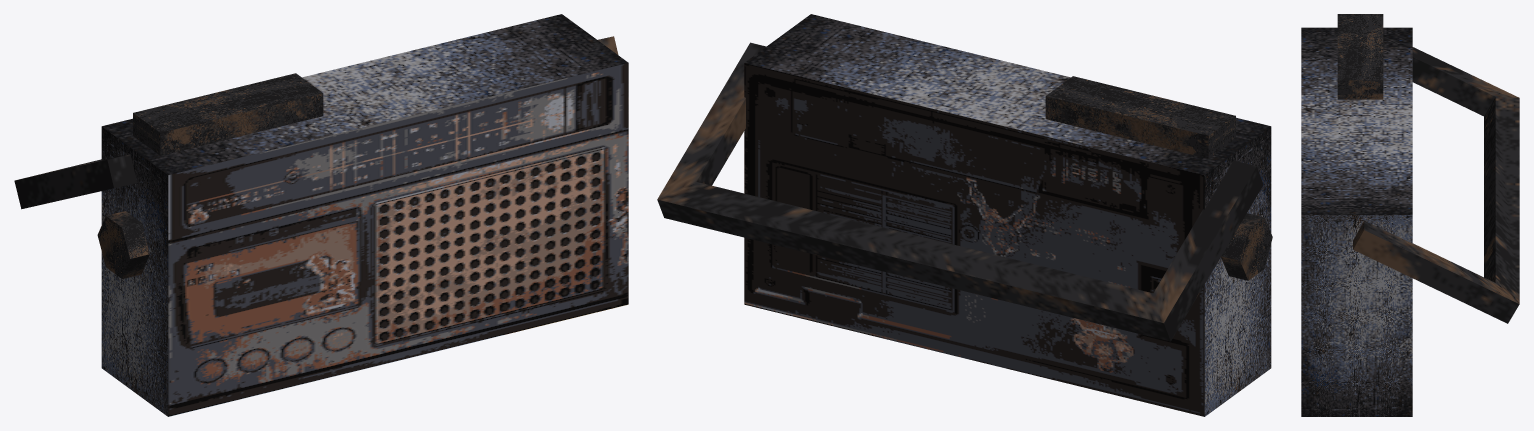
Rendered from Radio.fbx.
3 views of the same model, side by side, from view 1: azimuth 30°, elevation 25°; view 2: azimuth 150°, elevation 25°; view 3: azimuth 270°, elevation 25° (orthographic). The views are drawn at different scales.
Visible parts, largest first — view 1: Radio; view 2: Radio; view 3: Radio.
Boxes of the visible parts, box(x1,y1,x2,y2) form: Radio: box(14, 14, 628, 416); Radio: box(657, 14, 1272, 416); Radio: box(1301, 14, 1519, 416).
Size of the model in its own units: 0.4245 by 0.212 by 0.1897.
